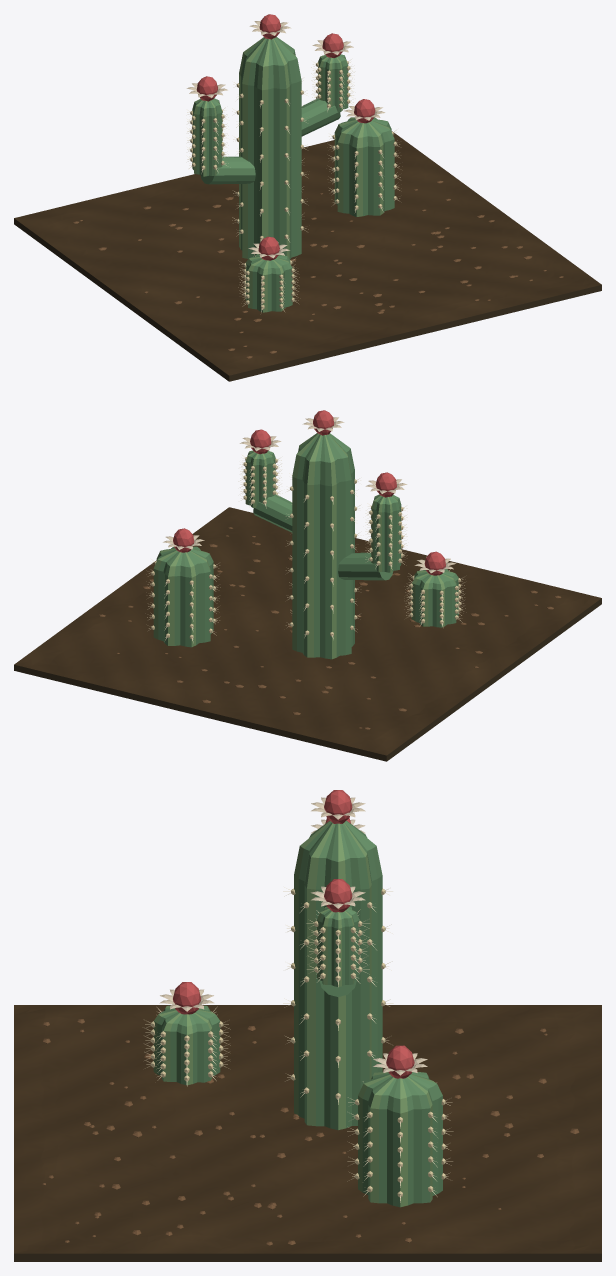
File: cactus.glb
3 views of the same model, one above another, from view 1: azimuth 30°, elevation 25°; view 2: azimuth 150°, elevation 25°; view 3: azimuth 270°, elevation 25° (orthographic). The views are drawn at different scales.
Parts seen in each view (by area): view 1: Static_mesh, CactusStem_mesh, CactusStem.001_mesh, CactusStem.002_mesh, CactusArm_mesh, CactusArm.001_mesh, CactusElbow_mesh, CactusElbow.001_mesh, CactusAreoles.001_mesh, CactusAreoles.004_mesh, CactusAreoles.003_mesh, CactusAreoles_mesh (+1 smaller); view 2: Static_mesh, CactusStem_mesh, CactusStem.001_mesh, CactusStem.002_mesh, CactusArm_mesh, CactusArm.001_mesh, CactusElbow_mesh, CactusElbow.001_mesh, CactusAreoles.001_mesh, CactusAreoles.004_mesh, CactusAreoles.003_mesh, CactusAreoles_mesh (+1 smaller); view 3: Static_mesh, CactusStem_mesh, CactusStem.001_mesh, CactusStem.002_mesh, CactusArm.001_mesh, CactusAreoles.004_mesh, CactusAreoles.003_mesh, CactusAreoles.002_mesh, CactusAreoles_mesh, CactusFruit_mesh, CactusFruit.003_mesh, CactusFruit.002_mesh (+1 smaller).
Part boxes in pixels (bbox=[...]): Static_mesh: bbox=[14, 131, 601, 381]; CactusStem_mesh: bbox=[239, 37, 301, 259]; CactusStem.001_mesh: bbox=[334, 117, 394, 216]; CactusStem.002_mesh: bbox=[245, 254, 292, 312]; CactusArm_mesh: bbox=[192, 98, 222, 176]; CactusArm.001_mesh: bbox=[318, 54, 348, 111]; CactusElbow_mesh: bbox=[200, 156, 255, 184]; CactusElbow.001_mesh: bbox=[301, 98, 340, 136]; CactusAreoles.001_mesh: bbox=[187, 107, 228, 173]; CactusAreoles.004_mesh: bbox=[238, 254, 299, 312]; CactusAreoles.003_mesh: bbox=[328, 130, 400, 212]; CactusAreoles_mesh: bbox=[232, 78, 308, 241]; Static_mesh: bbox=[14, 507, 601, 761]; CactusStem_mesh: bbox=[292, 433, 354, 659]; CactusStem.001_mesh: bbox=[153, 546, 213, 647]; CactusStem.002_mesh: bbox=[411, 569, 458, 627]; CactusArm_mesh: bbox=[371, 494, 401, 572]; CactusArm.001_mesh: bbox=[245, 450, 275, 507]; CactusElbow_mesh: bbox=[338, 552, 392, 580]; CactusElbow.001_mesh: bbox=[253, 494, 292, 532]; CactusAreoles.001_mesh: bbox=[365, 503, 407, 569]; CactusAreoles.004_mesh: bbox=[405, 569, 465, 627]; CactusAreoles.003_mesh: bbox=[147, 559, 220, 642]; CactusAreoles_mesh: bbox=[286, 473, 360, 639]; Static_mesh: bbox=[14, 1005, 601, 1261]; CactusStem_mesh: bbox=[294, 820, 382, 1130]; CactusStem.001_mesh: bbox=[358, 1072, 442, 1207]; CactusStem.002_mesh: bbox=[153, 1005, 220, 1085]; CactusArm.001_mesh: bbox=[317, 906, 359, 986]; CactusAreoles.004_mesh: bbox=[144, 1006, 230, 1086]; CactusAreoles.003_mesh: bbox=[347, 1081, 453, 1202]; CactusAreoles.002_mesh: bbox=[306, 909, 369, 986]; CactusAreoles_mesh: bbox=[283, 887, 393, 1104]; CactusFruit_mesh: bbox=[324, 790, 352, 823]; CactusFruit.003_mesh: bbox=[386, 1045, 414, 1078]; CactusFruit.002_mesh: bbox=[324, 879, 352, 912].
Bounding box in the file's own units: 3.5 × 2.17 × 3.5.
